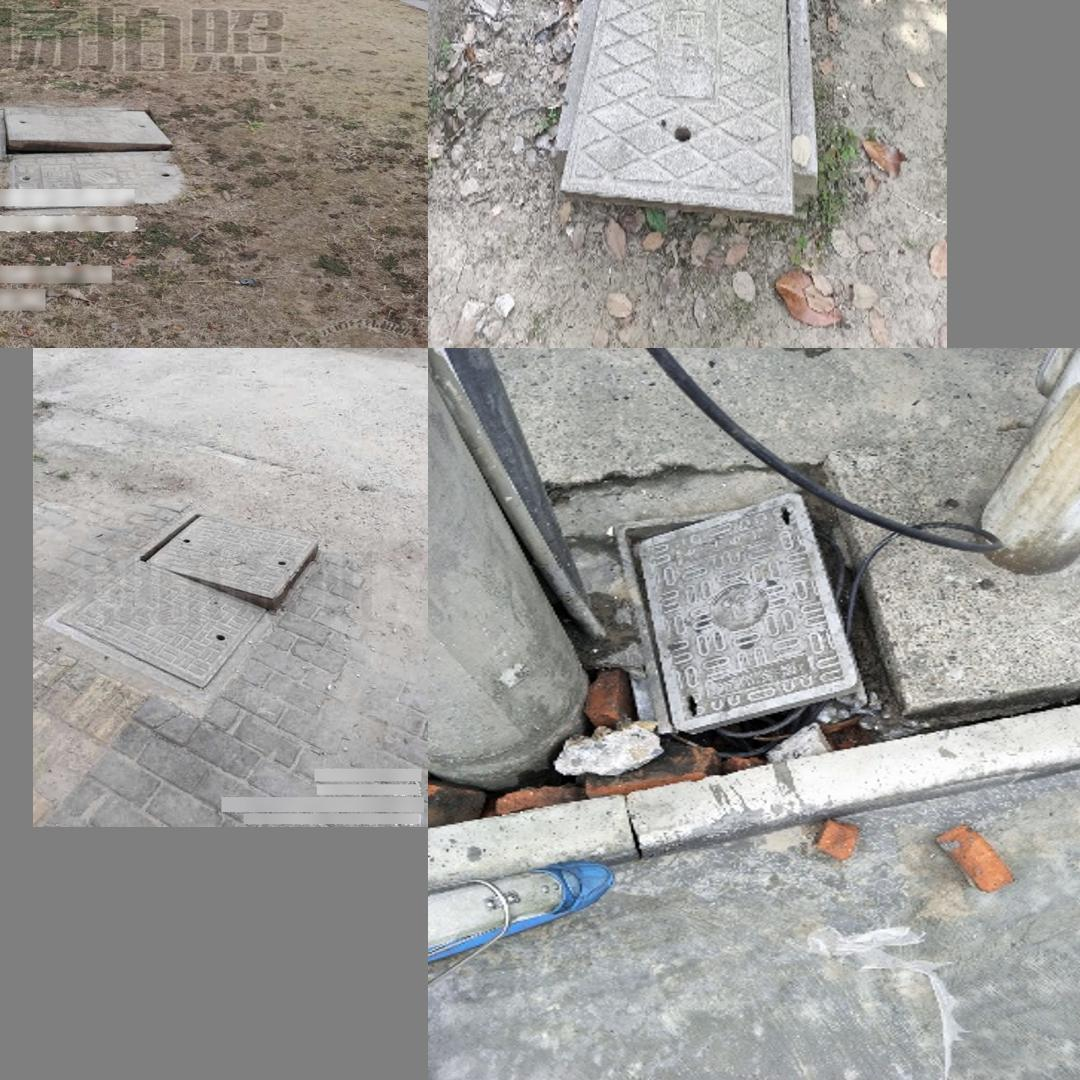uncovered: (610, 495, 862, 737), (551, 0, 819, 213), (44, 508, 325, 697), (0, 104, 199, 214)
